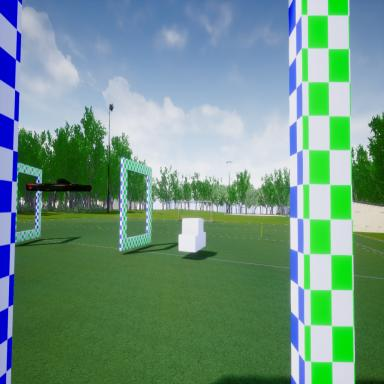gate: (118, 154, 154, 251), (10, 161, 43, 246)
